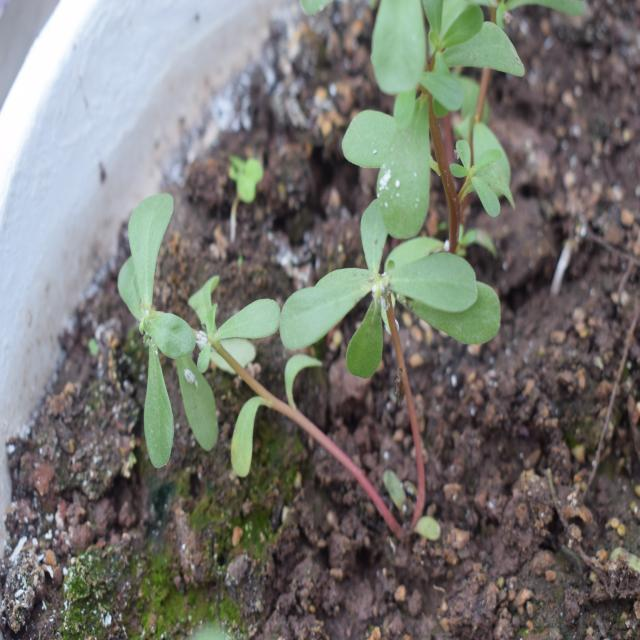purslane: (105, 189, 479, 491)
